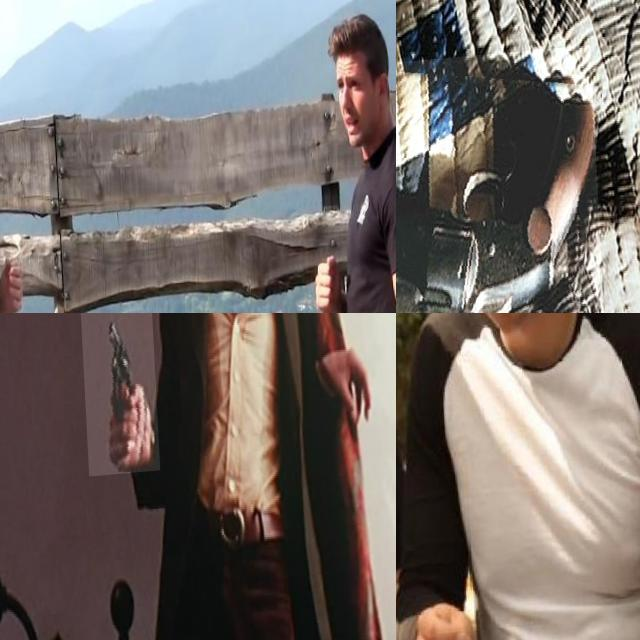-: (396, 393, 436, 587)
gun-knife-thesis - v11 Yolov5 augmented: (396, 53, 602, 313), (77, 313, 155, 481)
